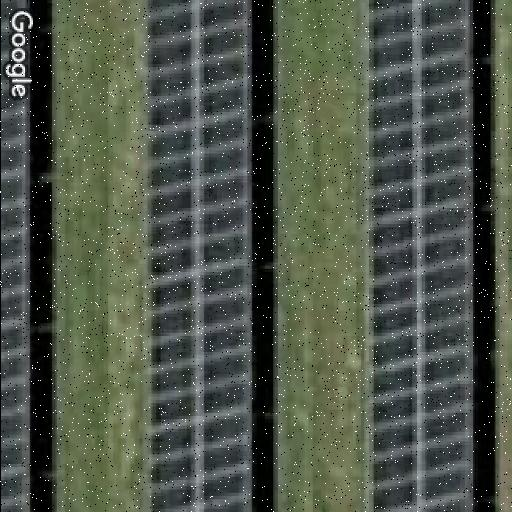solar-panel: (144, 0, 254, 512), (366, 0, 474, 512), (0, 0, 32, 512)
